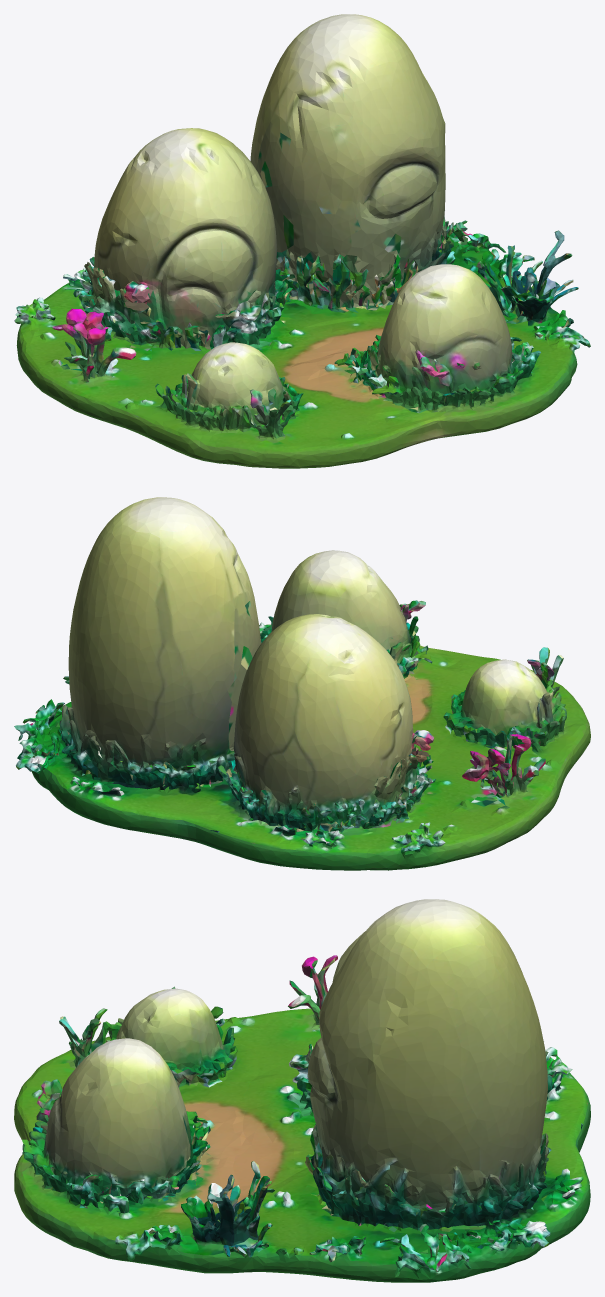
File: mossy_boulder_cluster_a.glb
The picture shows the model from 3 angles, top to bottom: view 1: azimuth 30°, elevation 25°; view 2: azimuth 150°, elevation 25°; view 3: azimuth 270°, elevation 25°; orthographic projection. The views are drawn at different scales.
Parts seen in each view (by area): view 1: tmp10qg6fah.ply; view 2: tmp10qg6fah.ply; view 3: tmp10qg6fah.ply.
Boxes of the visible parts, bbox=[...] form: tmp10qg6fah.ply: bbox=[14, 14, 590, 468]; tmp10qg6fah.ply: bbox=[14, 497, 590, 870]; tmp10qg6fah.ply: bbox=[14, 899, 590, 1282].
Bounding box in the file's own units: 1.99 × 1.07 × 1.81.
Materials: 1 (1 with a texture image).
